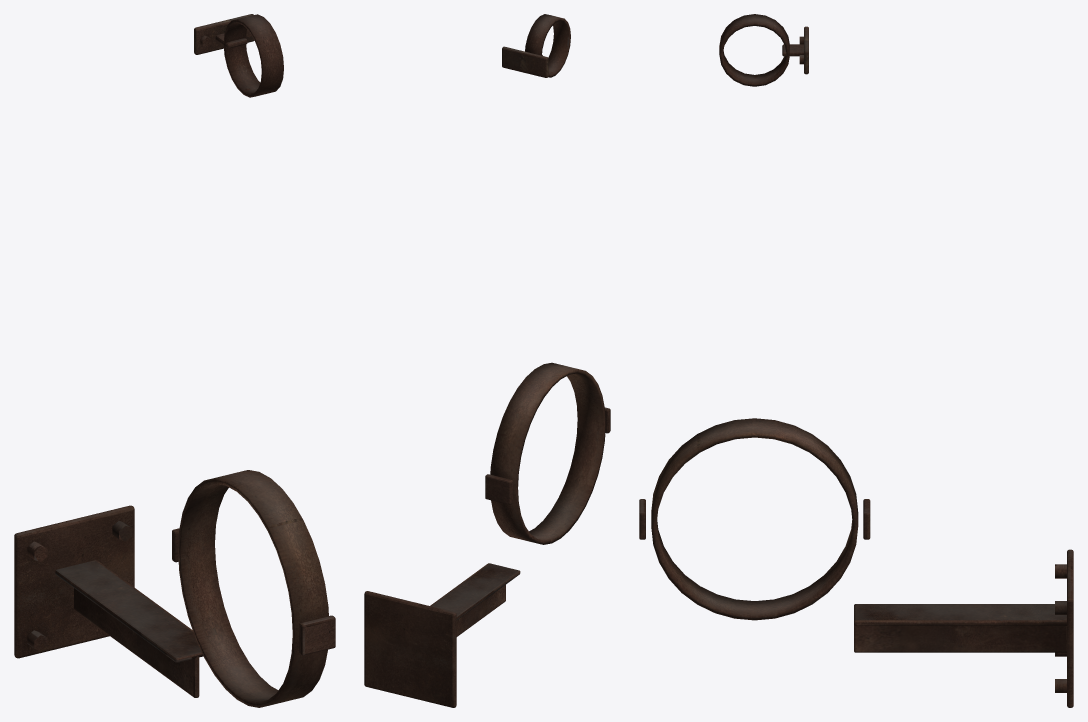
File: Pipe_Brackets.fbx
The picture shows the model from 3 angles, left to right: view 1: azimuth 30°, elevation 25°; view 2: azimuth 150°, elevation 25°; view 3: azimuth 270°, elevation 25°; orthographic projection. The views are drawn at different scales.
Visible parts, largest first — view 1: Large, Small; view 2: Large, Small; view 3: Large, Small.
Boxes of the visible parts, x1,y1,x2,y2 form: Large: (14, 470, 335, 707); Small: (194, 14, 283, 97); Large: (364, 362, 610, 707); Small: (502, 14, 570, 77); Large: (639, 418, 1073, 707); Small: (719, 14, 808, 86).
Bounding box in the file's own units: 0.14 × 0.851 × 0.504.
